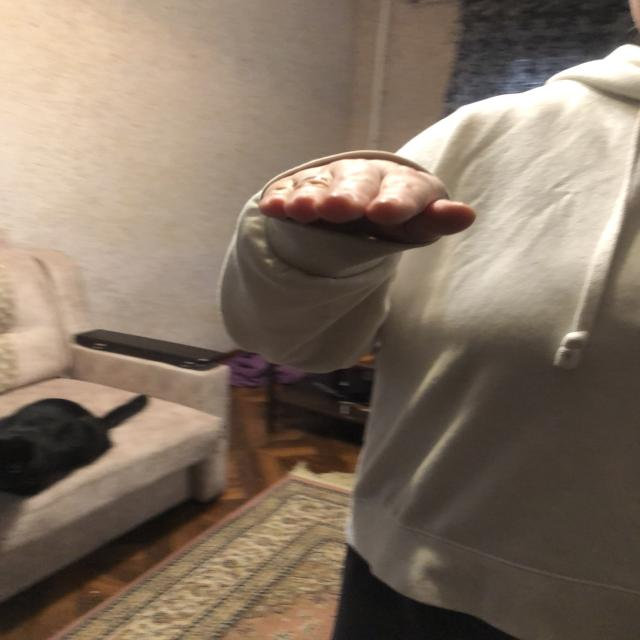paper: (262, 170, 472, 237)
